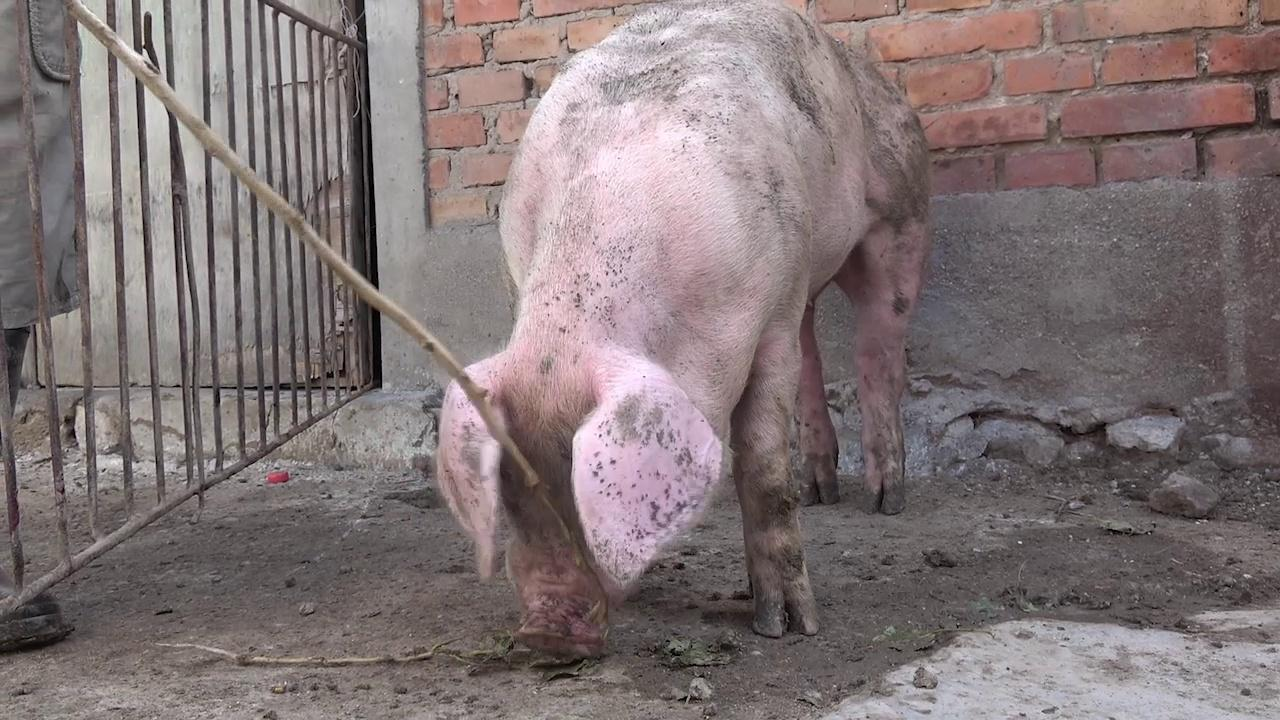Face: (430, 347, 731, 667)
